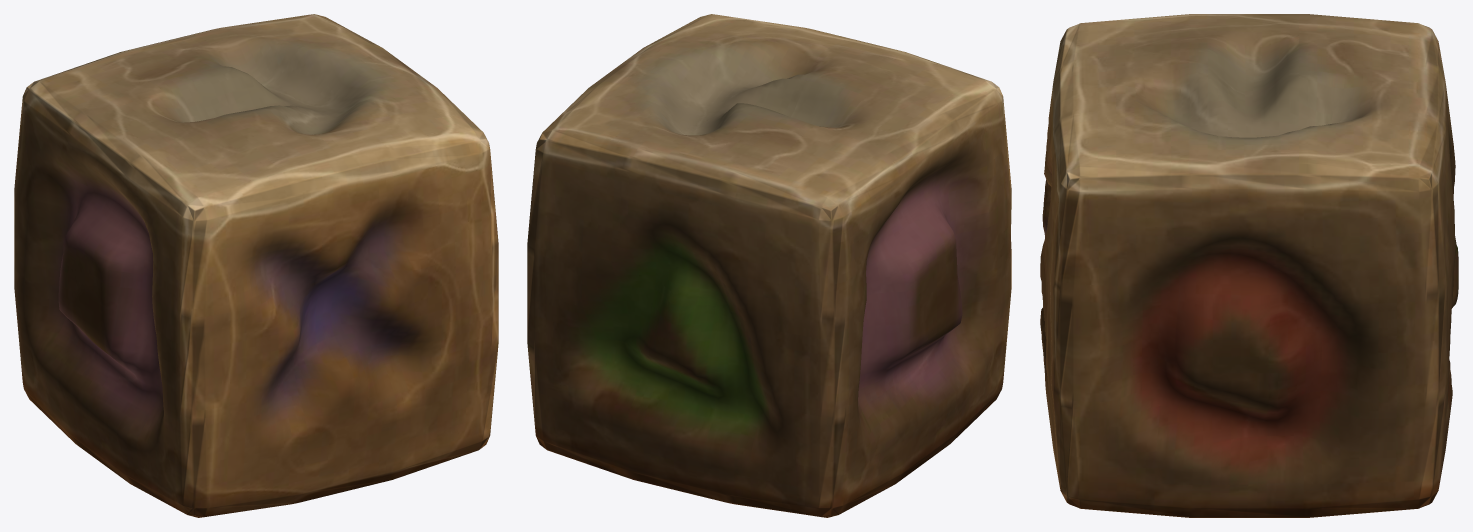
Rendered from PuzzleBlock1.glb.
The picture shows the model from 3 angles, left to right: view 1: azimuth 30°, elevation 25°; view 2: azimuth 150°, elevation 25°; view 3: azimuth 270°, elevation 25°; orthographic projection. The views are drawn at different scales.
Visible parts, largest first — view 1: Cube; view 2: Cube; view 3: Cube.
Boxes of the visible parts, <box> form: Cube: <box>14,14,498,517</box>; Cube: <box>527,14,1011,517</box>; Cube: <box>1040,14,1458,517</box>.
Size of the model in its own units: 1.05 by 1.05 by 1.05.
1 material, 1 textured.
